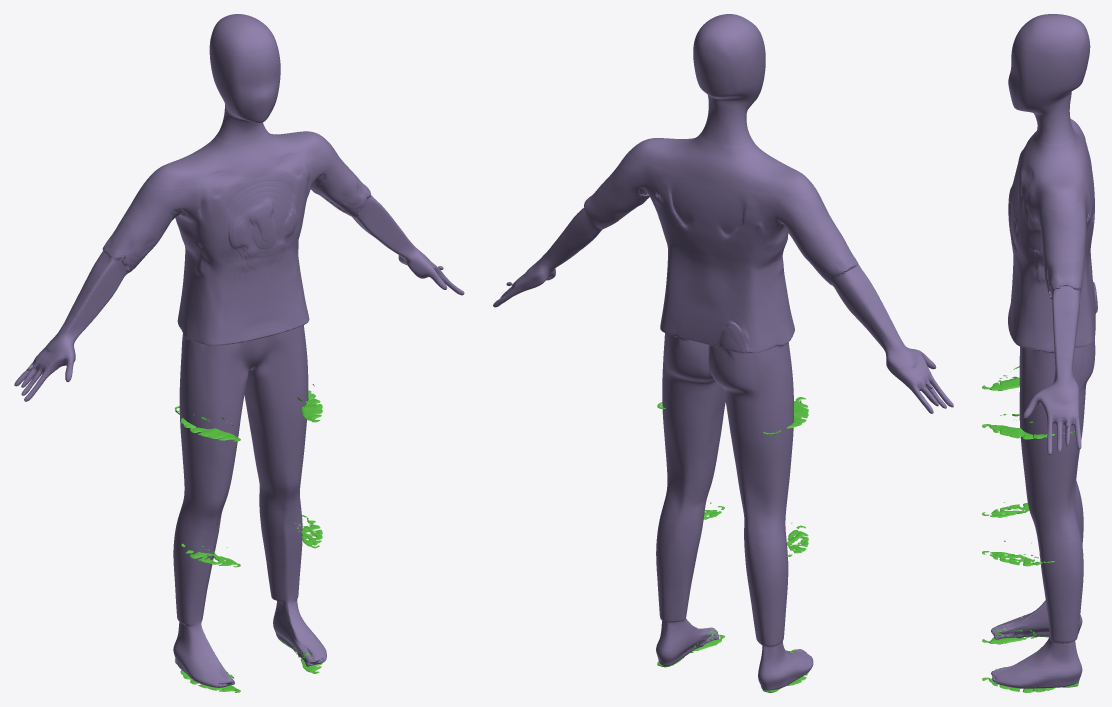
The picture shows the model from 3 angles, left to right: view 1: azimuth 30°, elevation 25°; view 2: azimuth 150°, elevation 25°; view 3: azimuth 270°, elevation 25°; orthographic projection. The views are drawn at different scales.
Visible parts, largest first — view 1: world; view 2: world; view 3: world.
Boxes of the visible parts, left/top/right/bottom form: world: left=14, top=14, right=464, bottom=692; world: left=493, top=14, right=953, bottom=692; world: left=982, top=14, right=1097, bottom=692.
Bounding box in the file's own units: 1.44 × 2 × 0.325.
